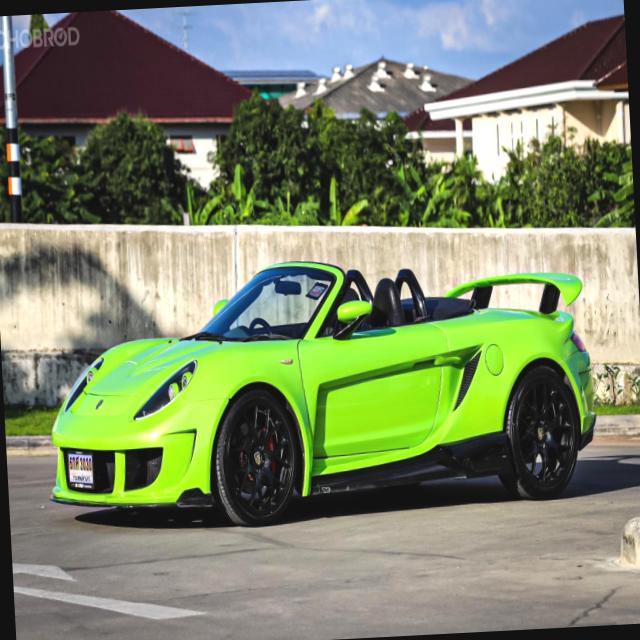license_plate: (62, 449, 98, 494)
